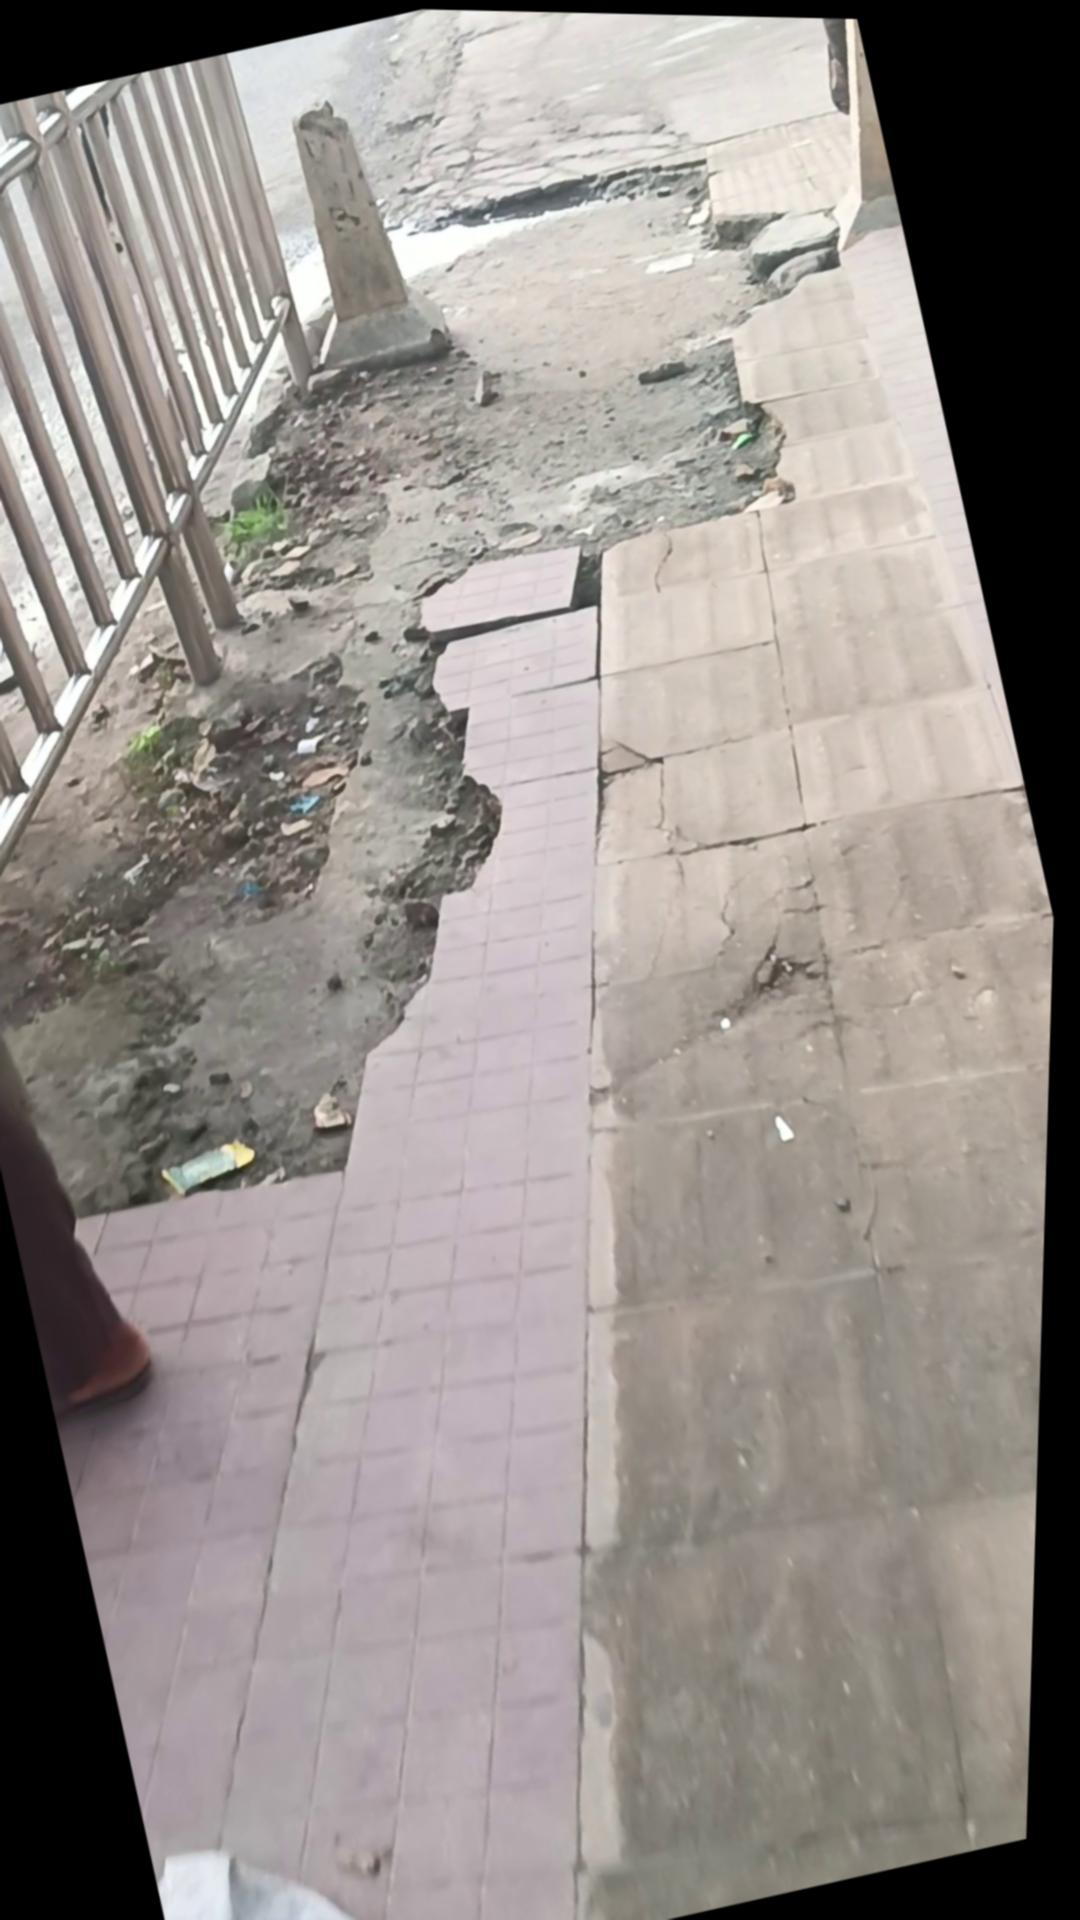Broken-road: (0, 0, 1080, 1920)
Muddy road: (0, 902, 181, 1422), (787, 14, 878, 115)
Potted-plant: (0, 0, 1080, 1920)
Rickshaw: (250, 77, 464, 386)
